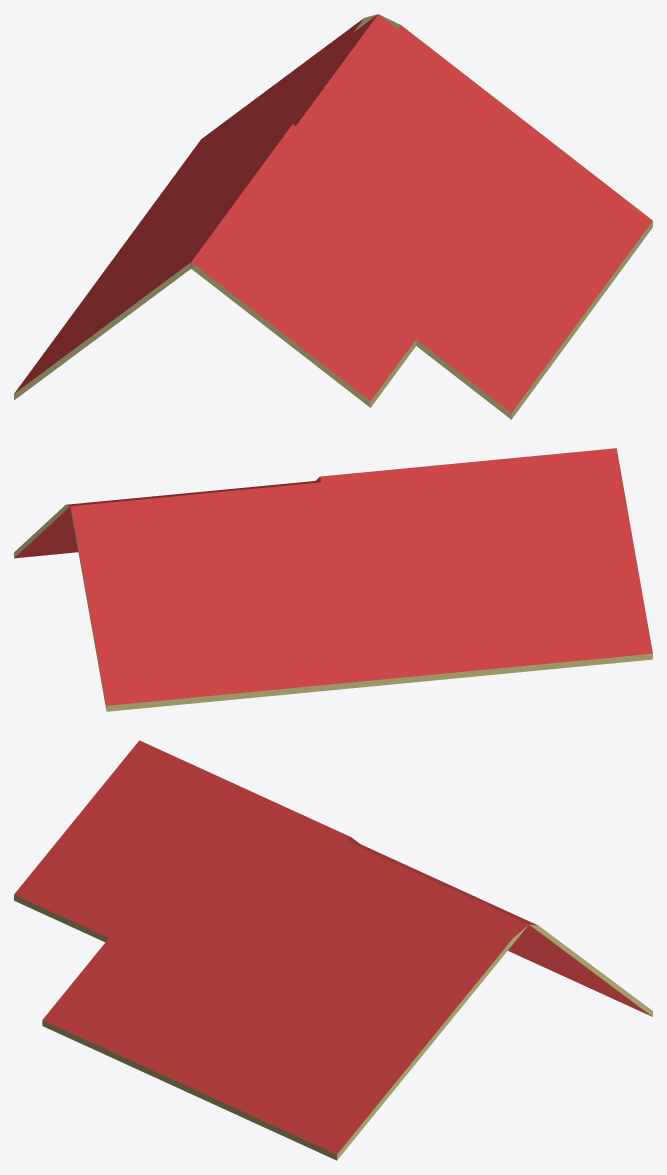
3 renders of one model, top to bottom at view 1: azimuth 30°, elevation 25°; view 2: azimuth 150°, elevation 25°; view 3: azimuth 270°, elevation 25°, orthographic. The views are drawn at different scales.
Bounding box in the file's own units: 10.65 × 9.54 × 2.76.
